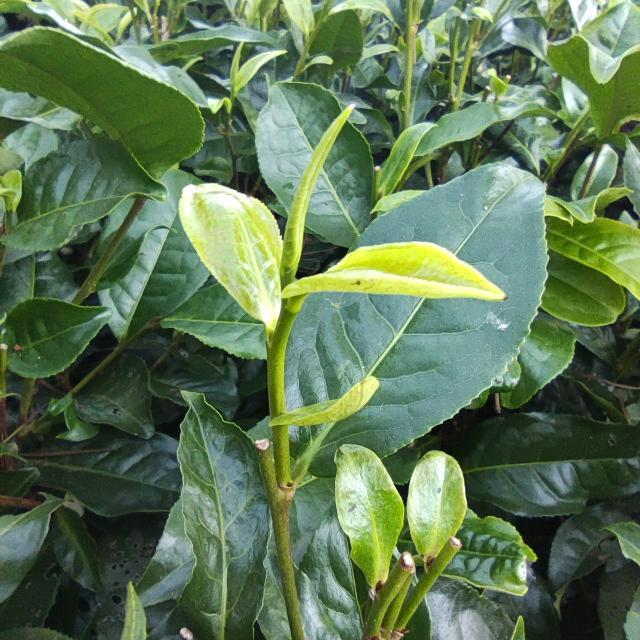Stem: (267, 344, 283, 368)
